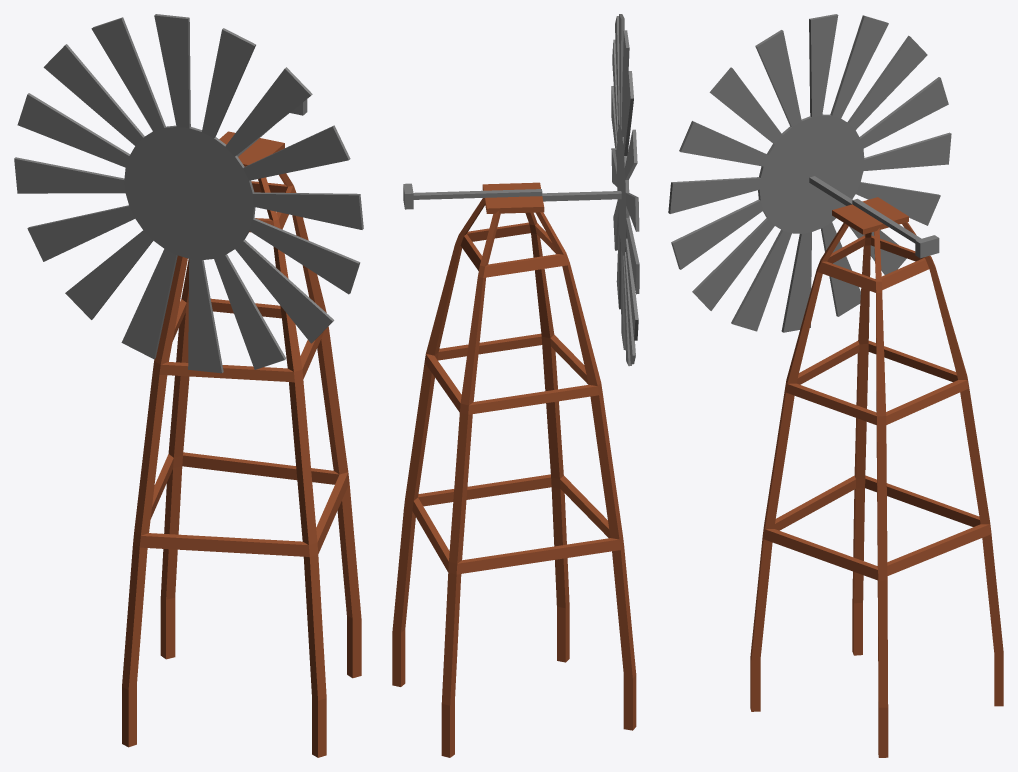
The model's file is windmill.fbx.
3 renders of one model, left to right at view 1: azimuth 30°, elevation 25°; view 2: azimuth 150°, elevation 25°; view 3: azimuth 270°, elevation 25°, orthographic. The views are drawn at different scales.
Visible parts, largest first — view 1: Cube; view 2: Cube; view 3: Cube.
Part boxes in pixels (<box>): Cube: <box>14,14,363,757</box>; Cube: <box>392,14,639,757</box>; Cube: <box>668,14,1003,757</box>.
Size of the model in its own units: 749 by 1721 by 807.
Materials: 1 (1 with a texture image).
